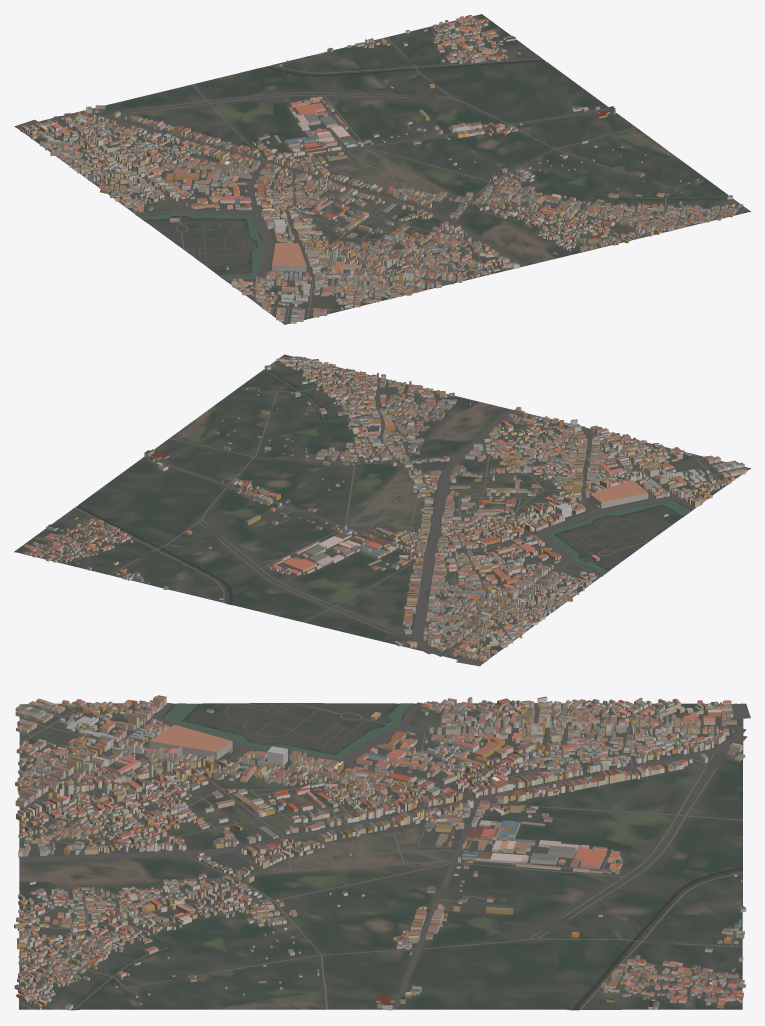
The picture shows the model from 3 angles, top to bottom: view 1: azimuth 30°, elevation 25°; view 2: azimuth 150°, elevation 25°; view 3: azimuth 270°, elevation 25°; orthographic projection. The views are drawn at different scales.
Visible parts, largest first — view 1: ground, buildings, roads, water; view 2: ground, buildings, roads, water; view 3: ground, buildings, roads, water.
Part boxes in pixels (x1=…): ground: x1=15, y1=14, x2=750, y2=324; buildings: x1=20, y1=15, x2=743, y2=323; roads: x1=14, y1=20, x2=745, y2=323; water: x1=138, y1=60, x2=727, y2=280; ground: x1=14, y1=354, x2=750, y2=660; buildings: x1=23, y1=356, x2=747, y2=661; roads: x1=41, y1=357, x2=748, y2=666; water: x1=76, y1=369, x2=691, y2=604; ground: x1=19, y1=703, x2=743, y2=1010; buildings: x1=14, y1=695, x2=746, y2=1010; roads: x1=18, y1=702, x2=750, y2=1009; water: x1=73, y1=703, x2=742, y2=1010.
Size of the model in its own units: 1412 by 33.54 by 1428.
